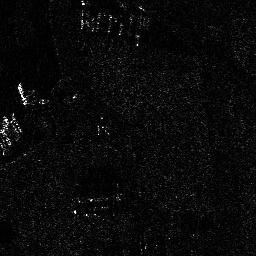ship: (15, 80, 29, 105)
